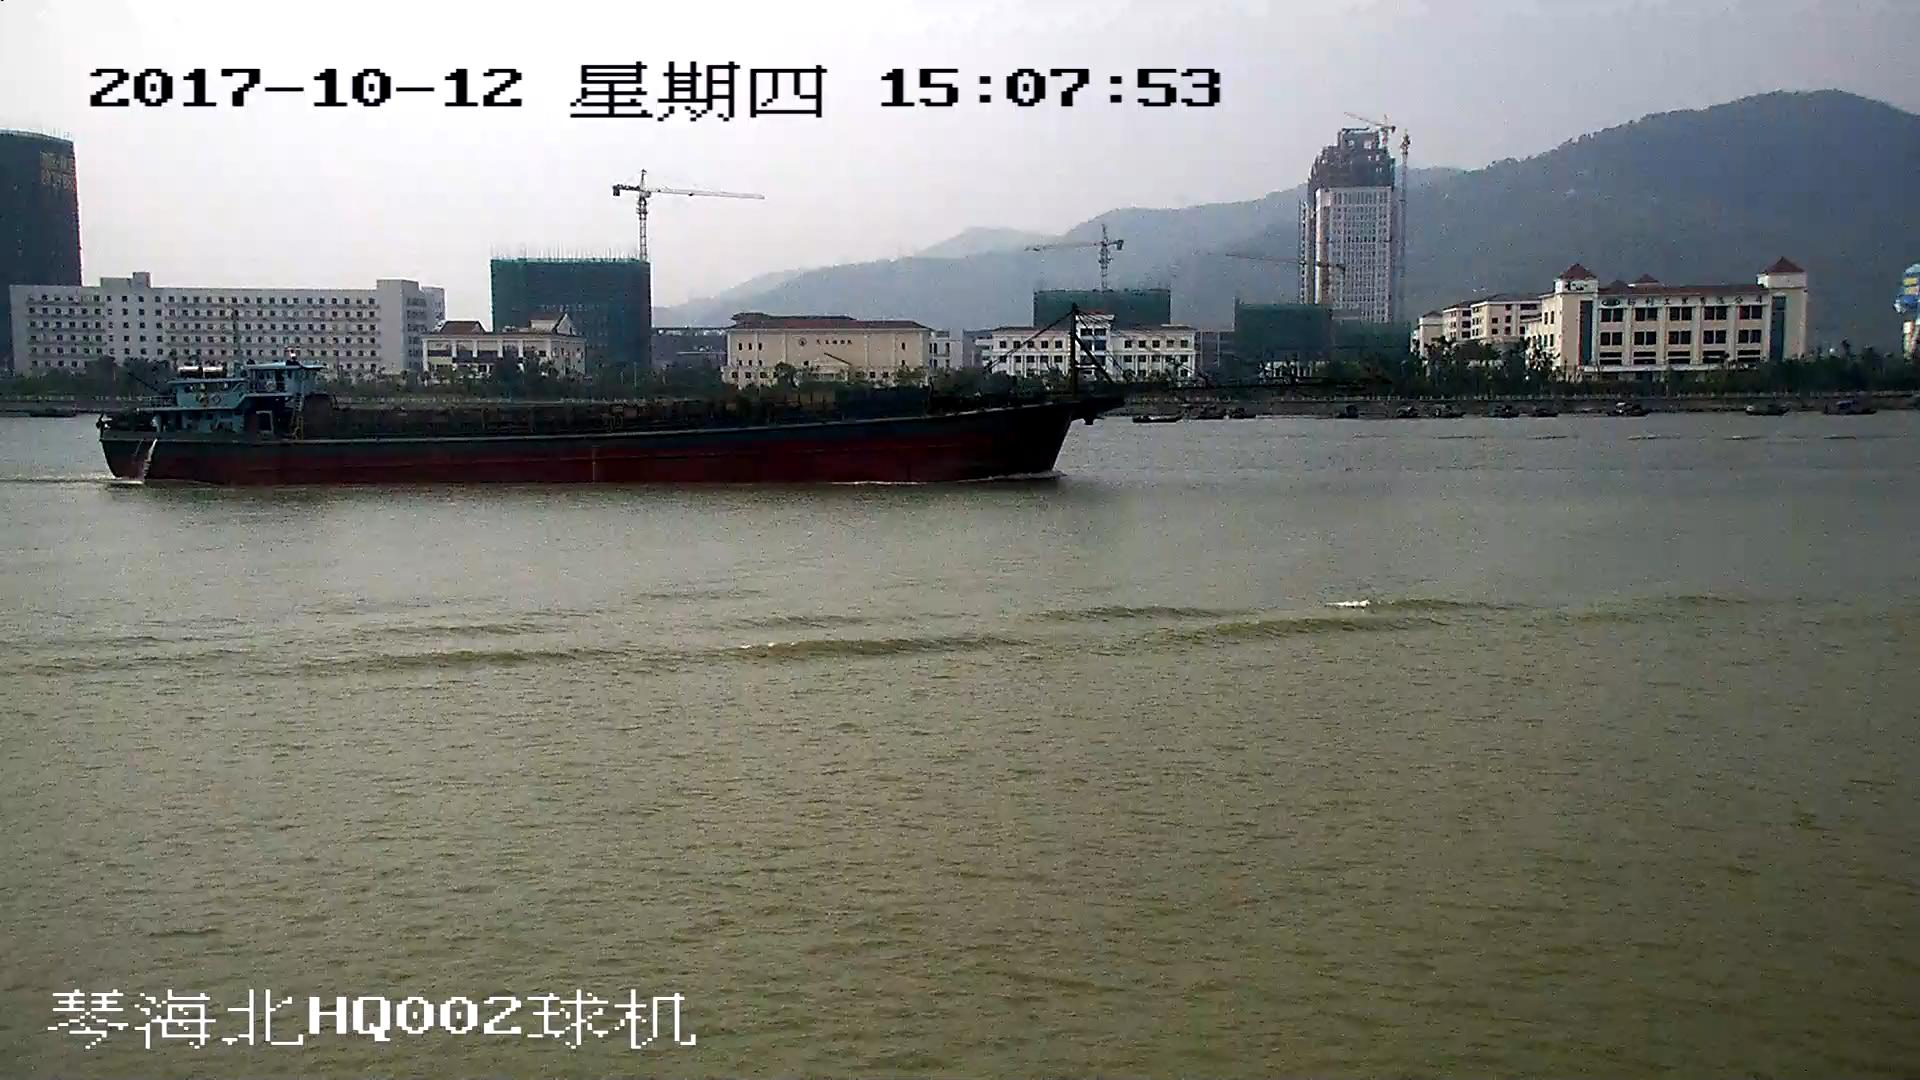bulk cargo carrier: (101, 307, 1244, 482)
